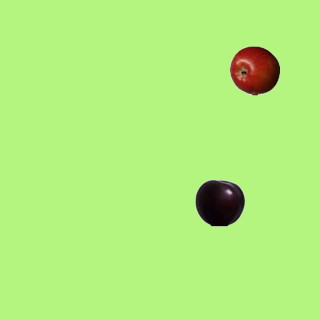Apple Braeburn: (229, 45, 279, 95)
Cherry Wax Black: (194, 177, 244, 227)
